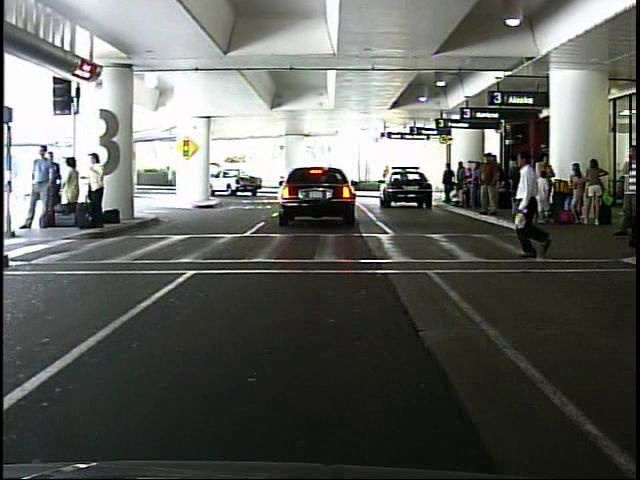person: (508, 139, 566, 266), (25, 140, 62, 235), (90, 148, 112, 230), (62, 153, 87, 225), (440, 162, 457, 206), (163, 162, 177, 190)
